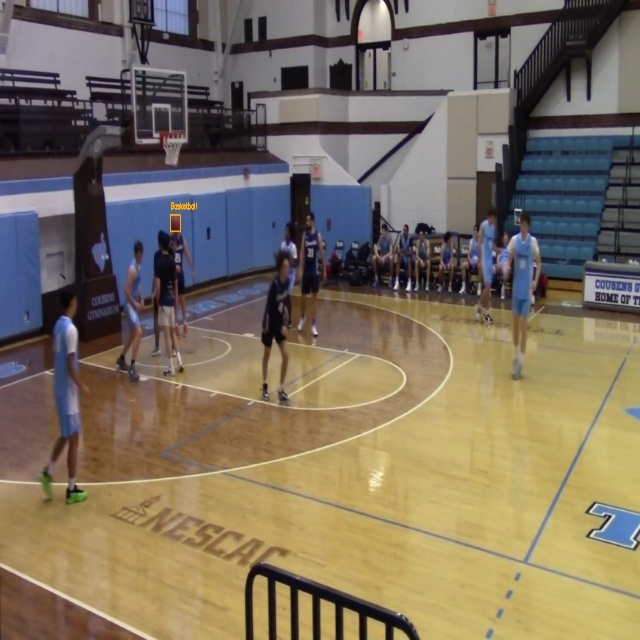Basketball: (170, 215, 180, 231)
